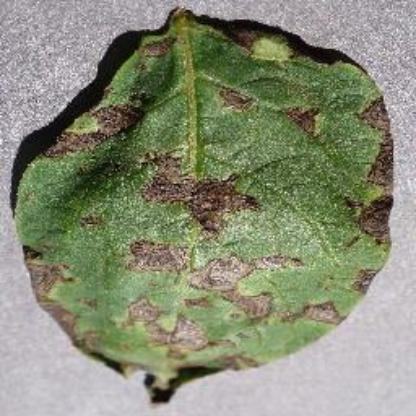Early-Blight: (11, 6, 404, 400)
